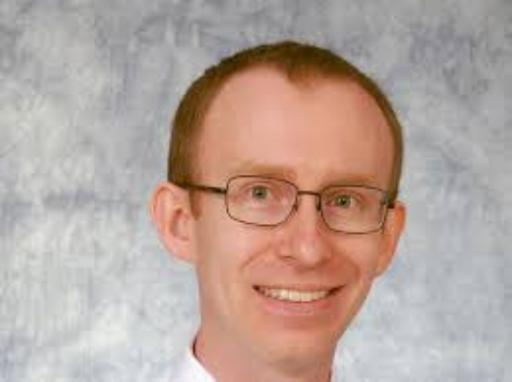left_eye: (325, 197, 362, 214)
left_lip_corner: (334, 281, 353, 296)
right_eye: (236, 190, 283, 207)
right_lip_corner: (248, 279, 272, 295)
